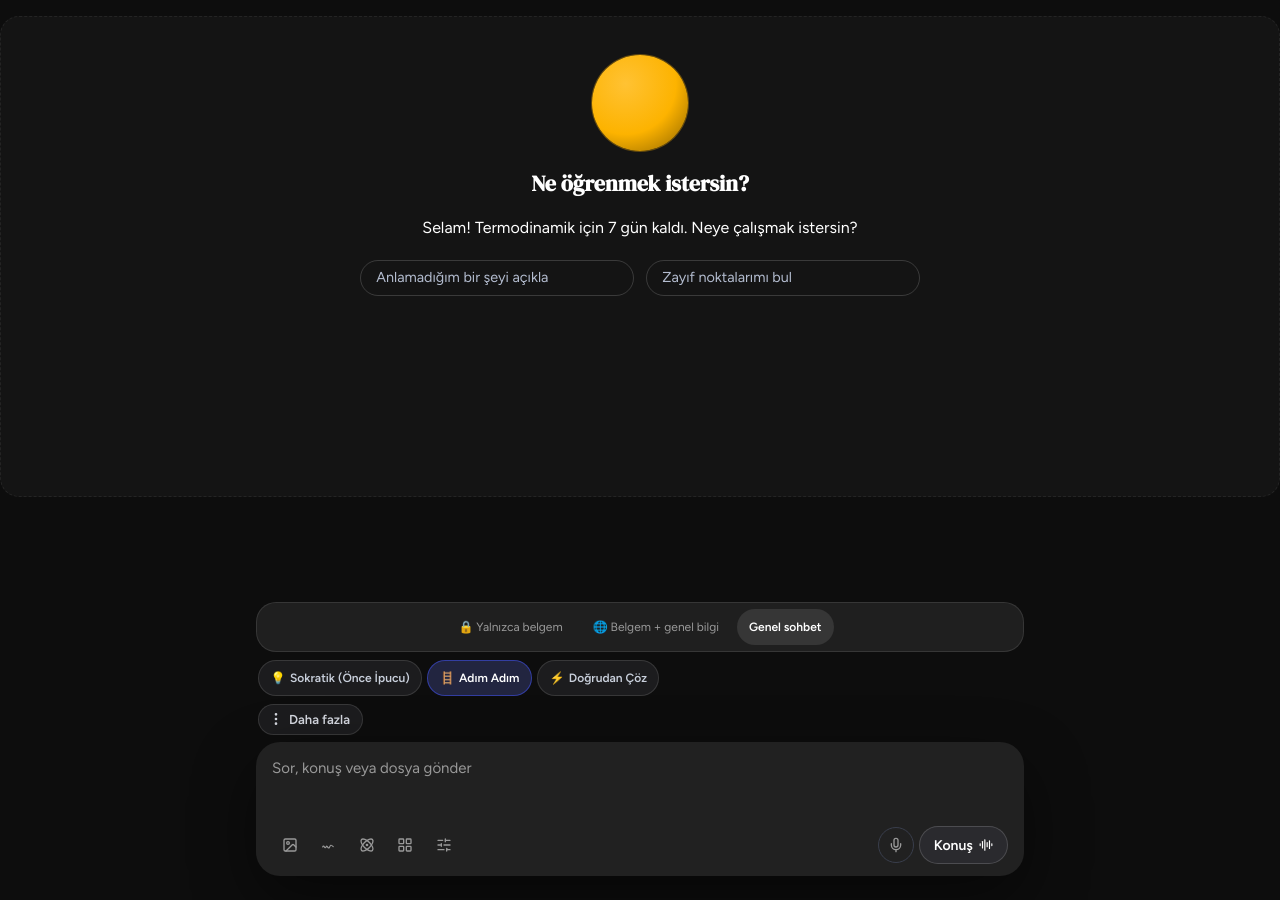
Test: exam chat chrome › shows a blue send control once text is typed
Type "Entalpi nedir?" into the text box with placeholder "Sor, konuş veya dosya gönder".
click(640, 784); type("Entalpi nedir?")  # box x1=272 y1=758 x2=1008 y2=810
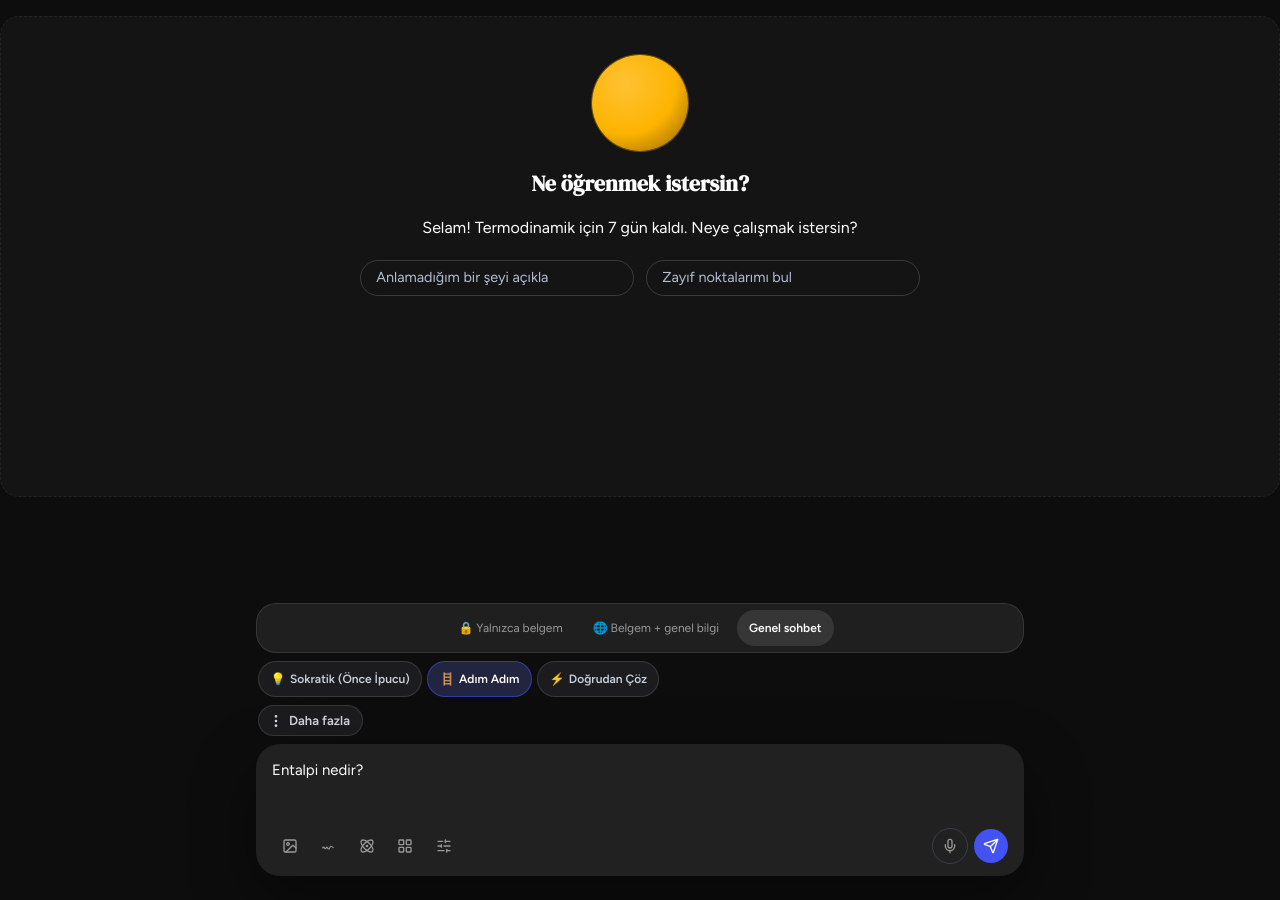
Now the button named "Gönder" is shown, box x1=974 y1=829 x2=1008 y2=863
